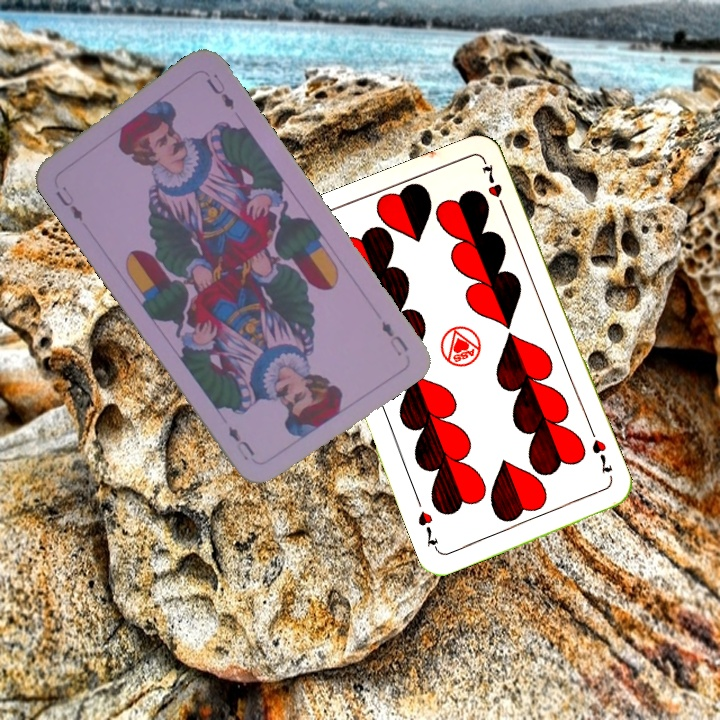EU: (377, 316, 411, 360), (52, 182, 86, 224)
H7: (587, 435, 615, 476)
